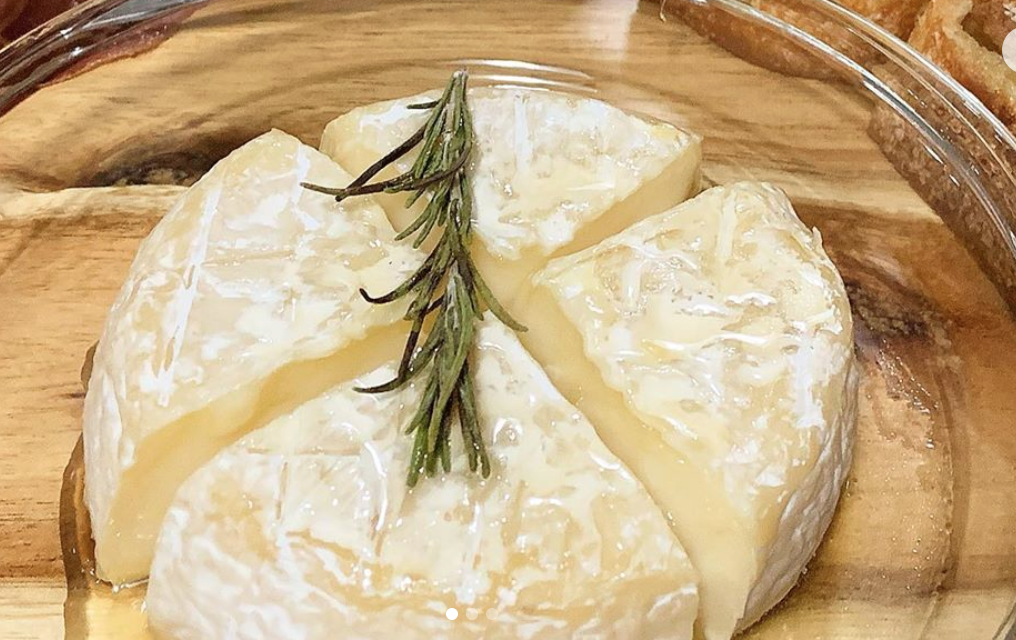camembert: (79, 80, 860, 640)
